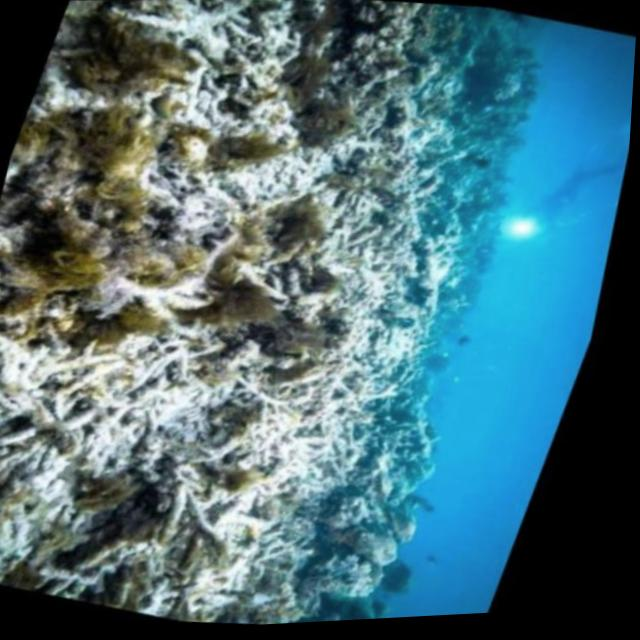Dead Coral: (0, 240, 285, 585), (252, 158, 489, 504), (65, 0, 360, 236), (153, 358, 403, 633), (310, 0, 452, 101)
